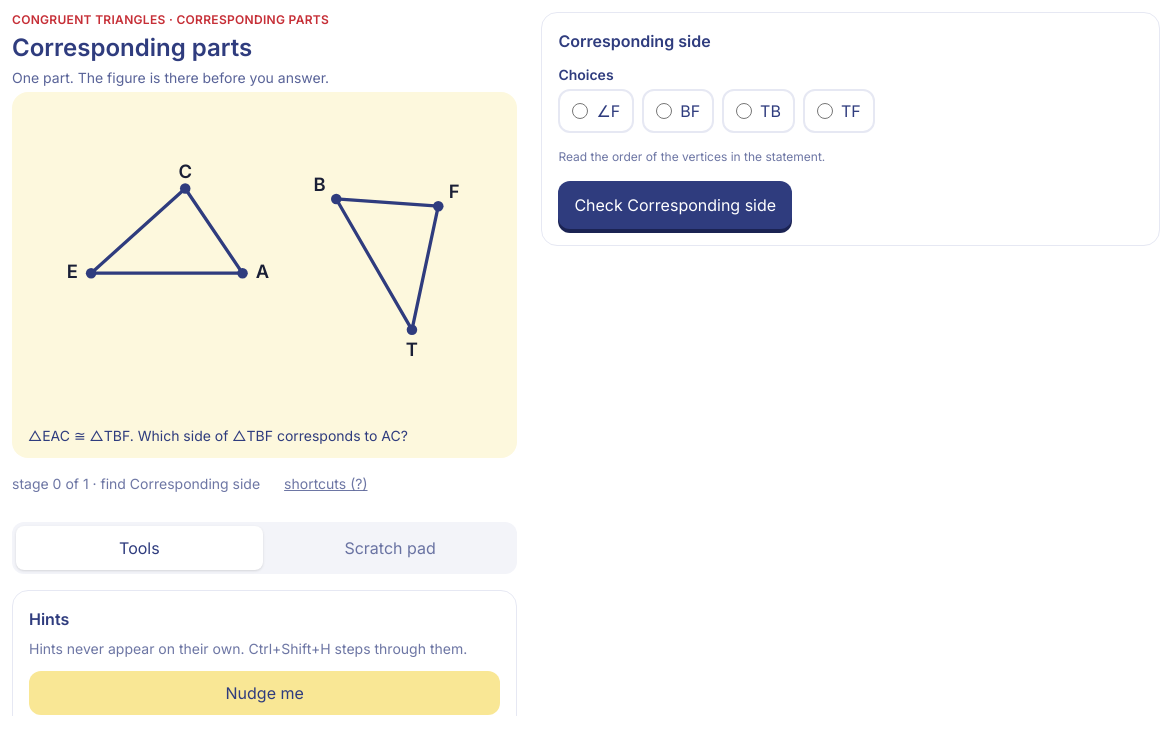
Test: GeometryFlow unit 4 geoCongruence/gc.parts › an unreadable answer records nothing
The image size is (1164, 732).
Click the button "Check Corresponding side" at (675, 205), box [558, 181, 792, 229]
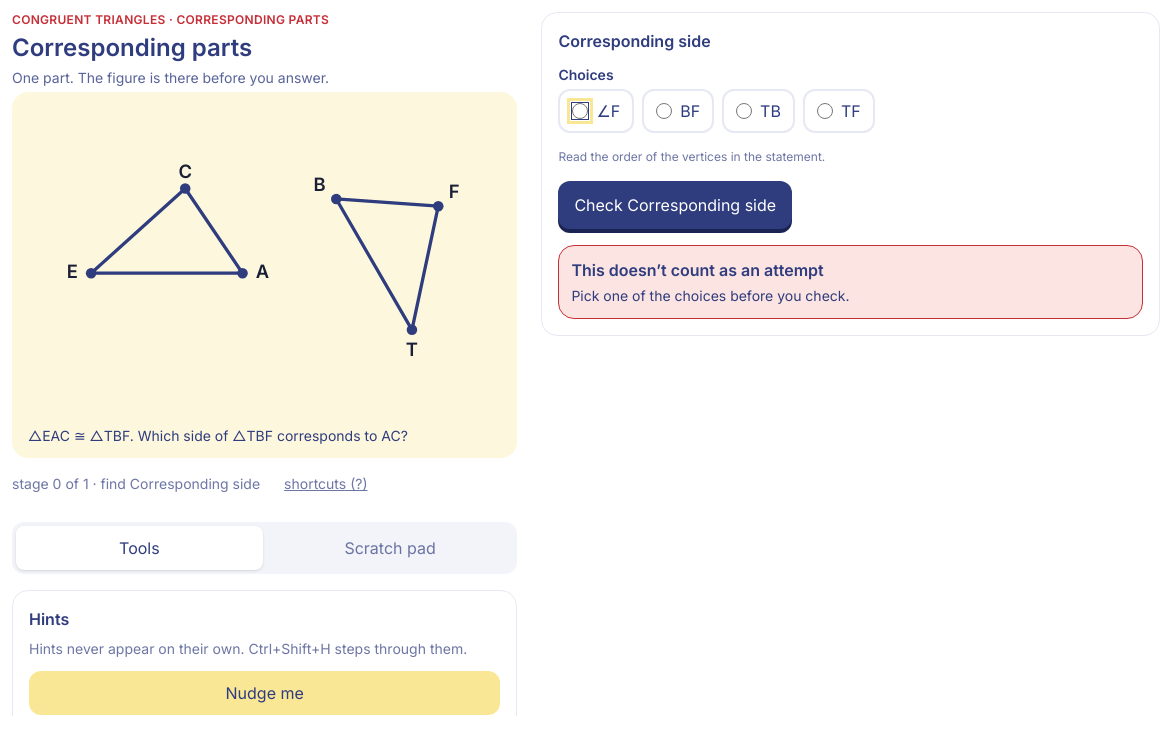
Expected: the message shows "This doesn’t count as an attempt", [571, 260, 824, 280]
